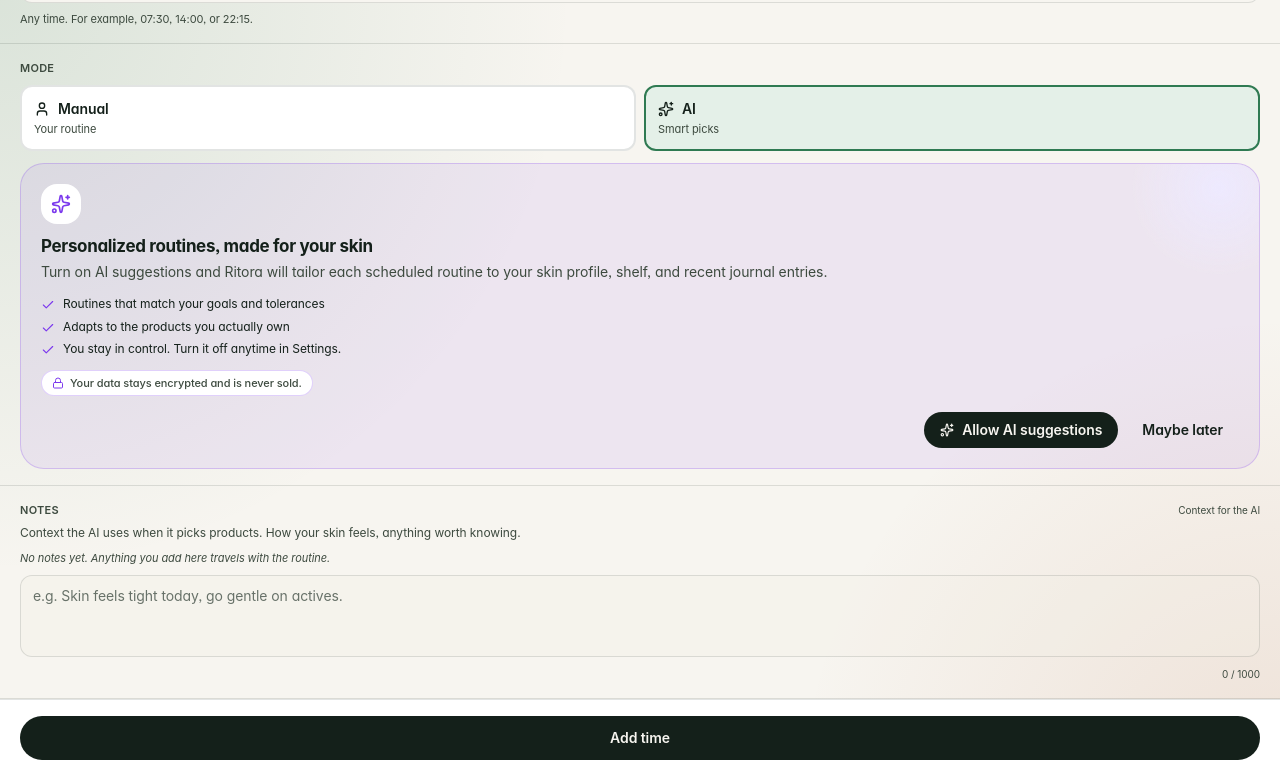
Test: AddSlotContent › renders a form-level server error instead of relying on a toast
(page scrolled)
Click the button "Add time".
click(640, 738)  # box [20,716,1260,760]
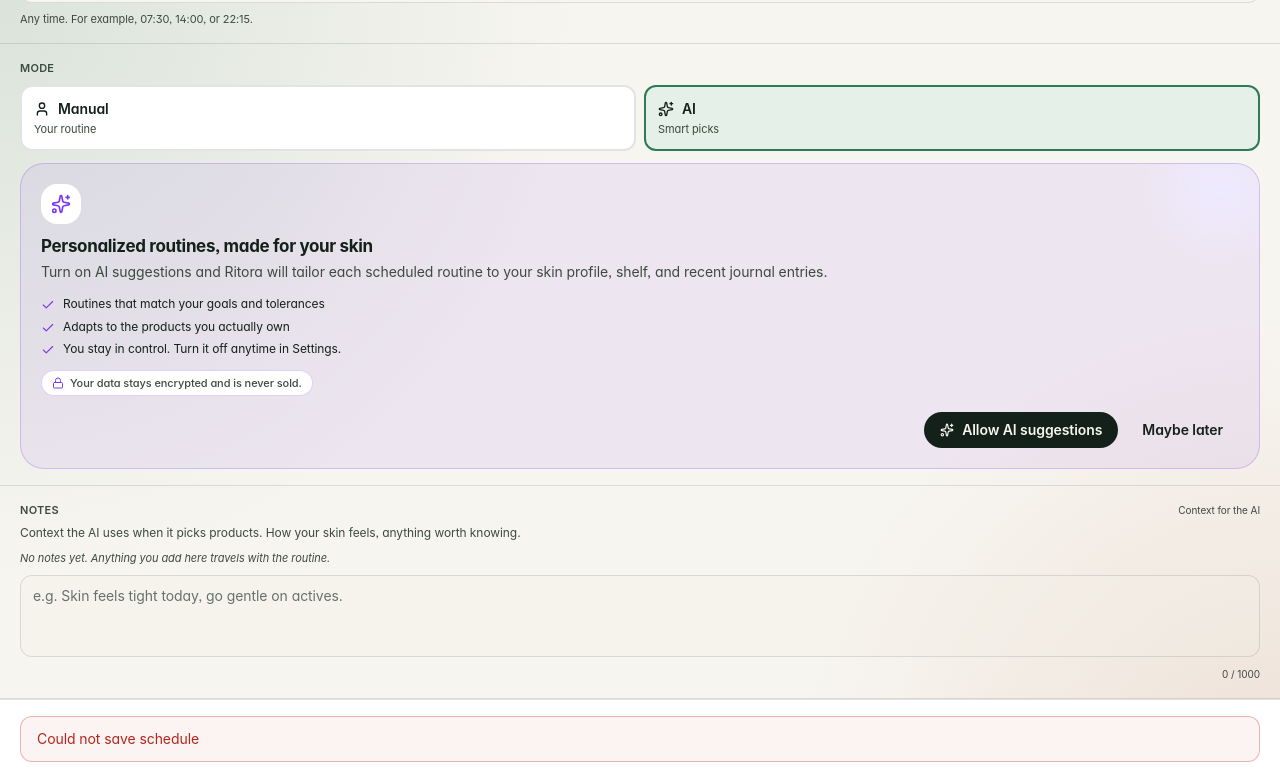
Expected: the message reads "Could not save schedule", [37,730,199,746]
